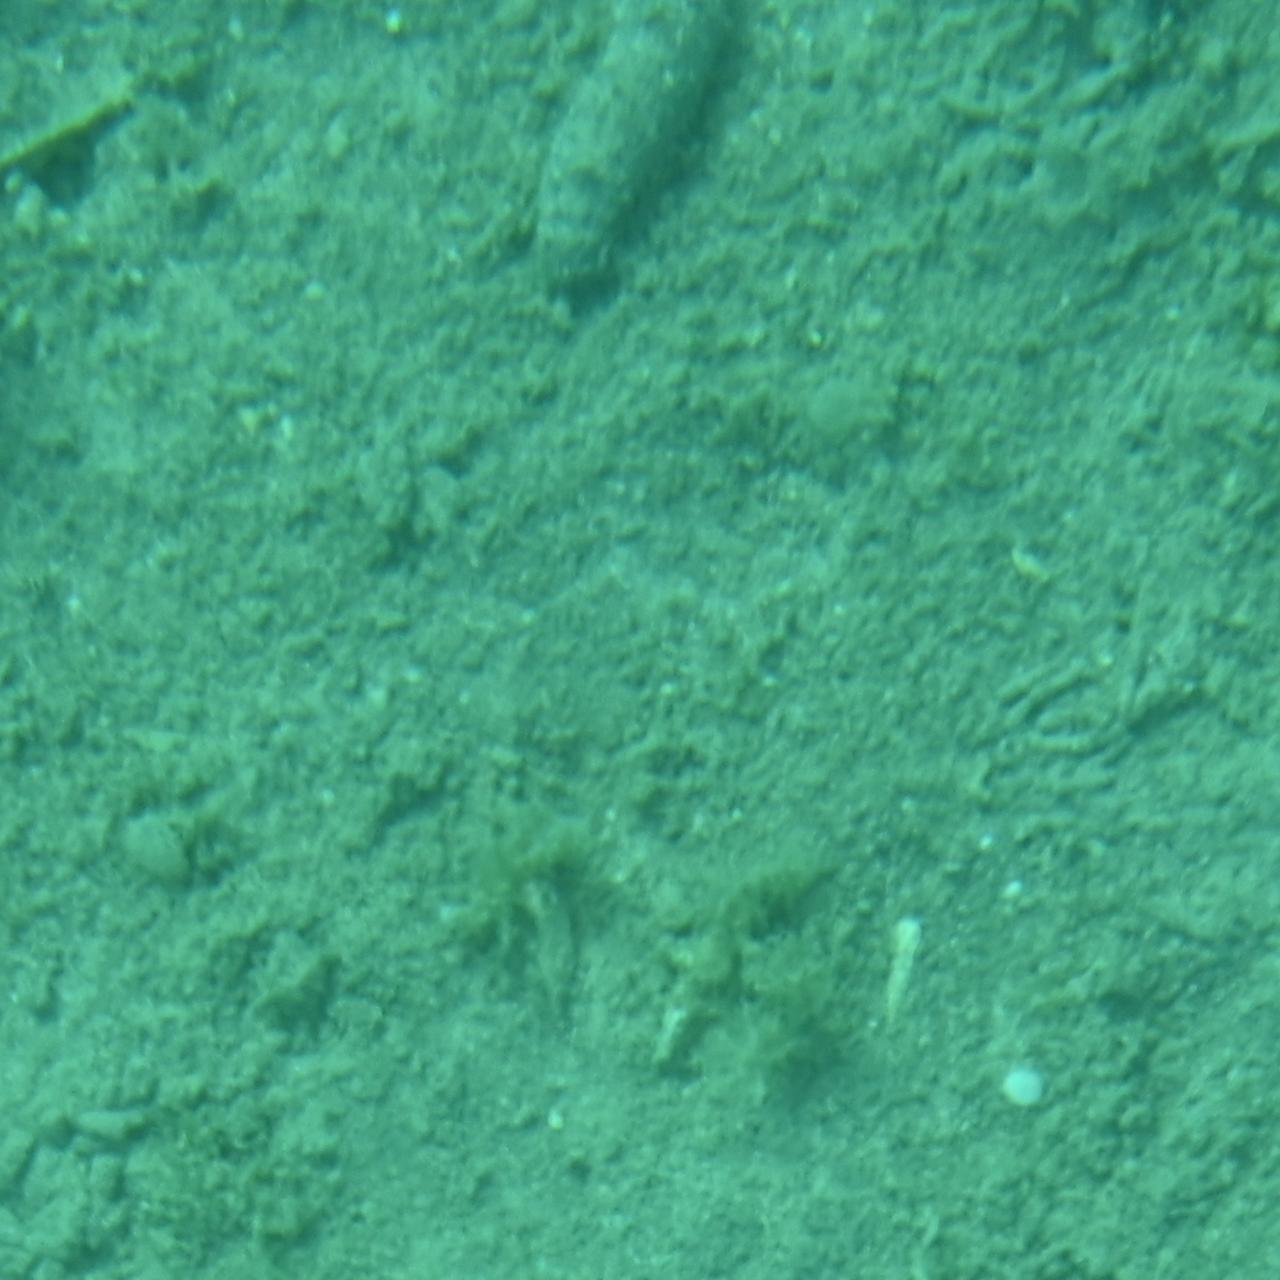Holothuria tubulosa: (522, 0, 758, 326)
